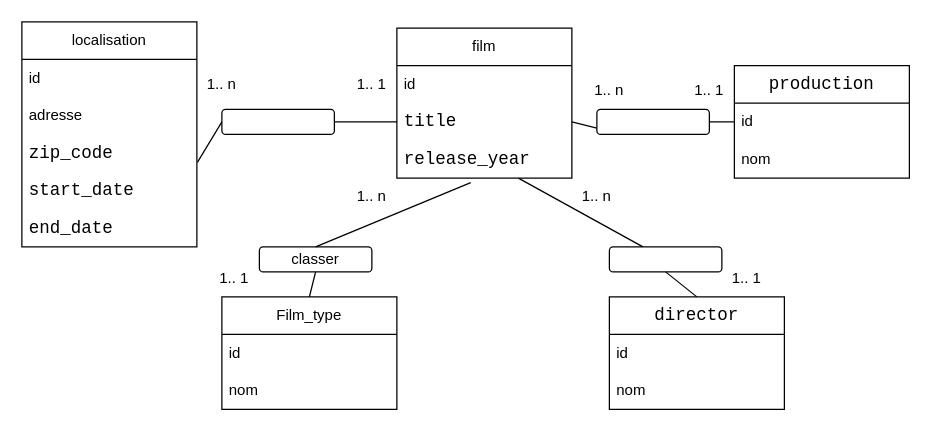
Image size: 931x431. Some labels were removed from this diagram. Each missing label, with the centre of its shape:
"diriger" belongs at [665,259].
"produire" belongs at [652,121].
"se deroule" belongs at [277,121].
